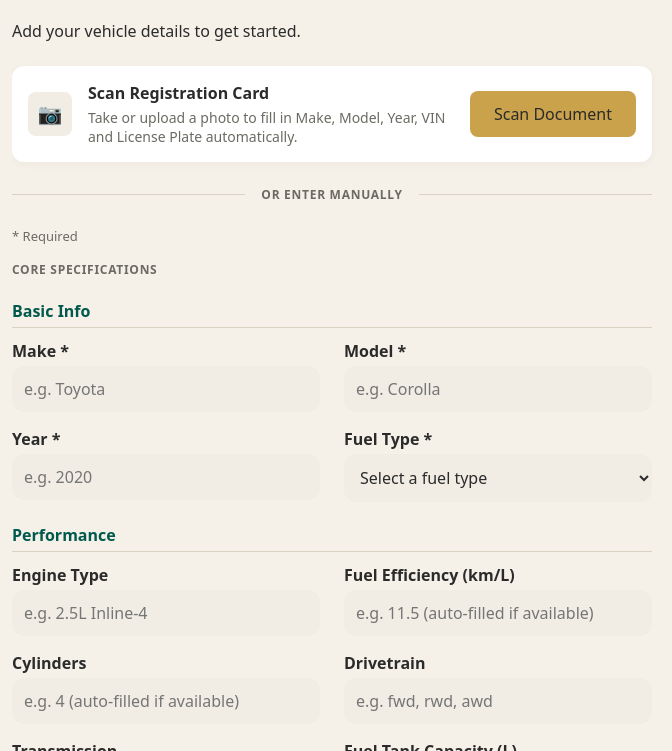
Test: CarOnboardingPage › shows a clear plain-language error, never the database text, and does not navigate when the insert fails: an unclassified database error
Type "Toyota" into the field labelled "Make *" at (166,389), box [12,366,320,412]
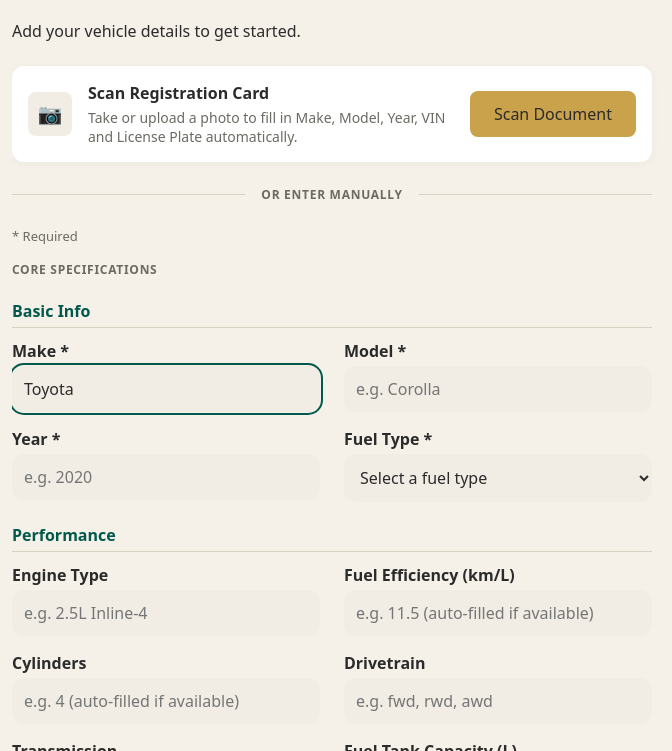
Type "Corolla" into the field labelled "Model *" at (498,389), box [344,366,652,412]
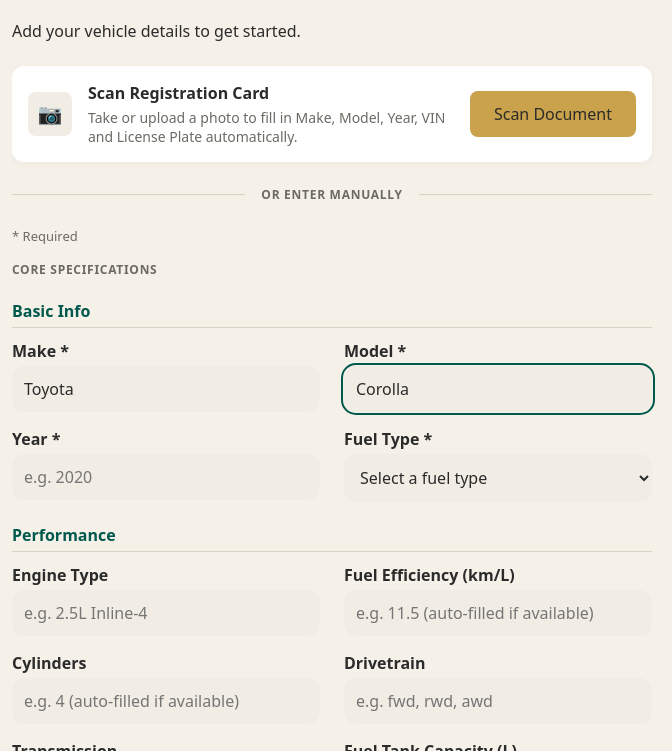
Type "2020" into the number field labelled "Year *" at (166,477), box [12,454,320,500]
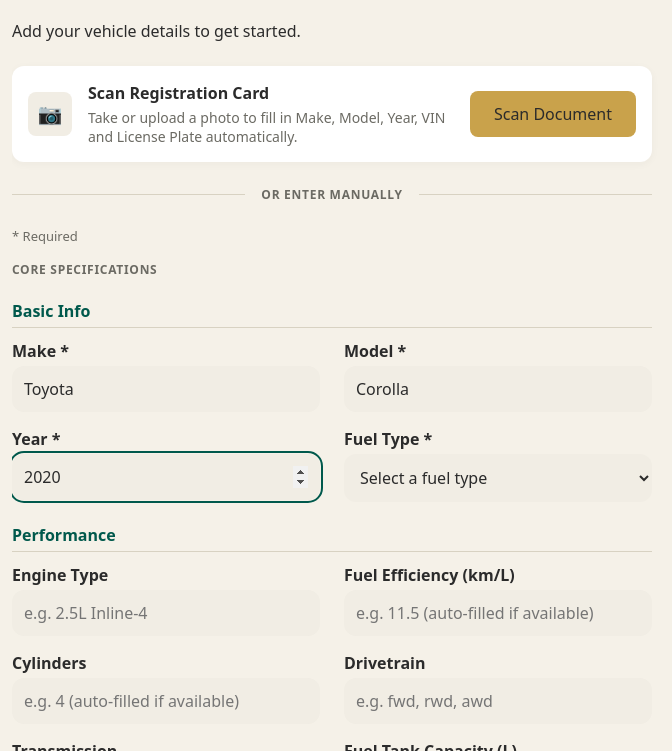
Select "Gasoline" in the dropdown labelled "Fuel Type *" at (498,478), box [344,454,652,502]
(page scrolled)
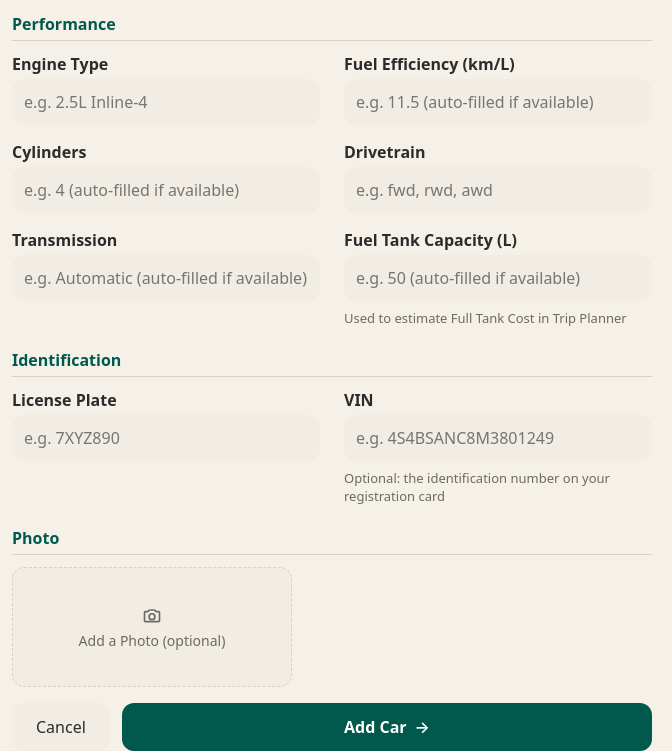
Click the button "Add Car →" at (387,727), box [122,703,652,750]
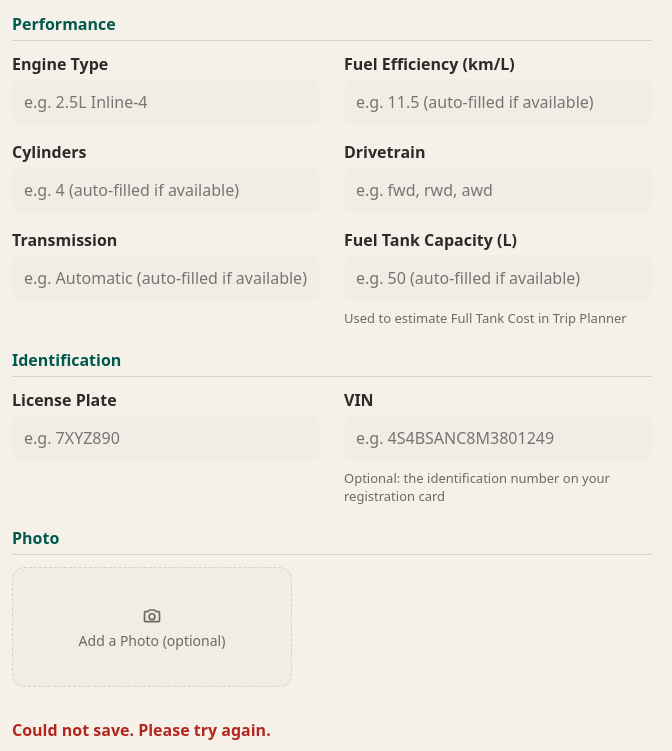
Expected: the message reads "Could not save. Please try again.", [12,719,271,741]
